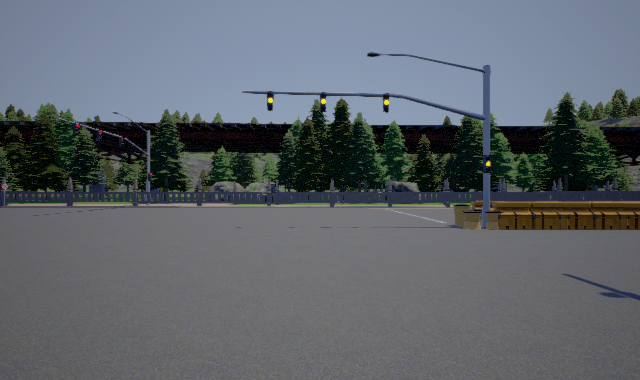traffic_light: (483, 155, 491, 173), (267, 91, 274, 111), (383, 93, 389, 113), (320, 92, 326, 112), (73, 123, 80, 136), (96, 130, 103, 142), (119, 137, 125, 147), (148, 173, 153, 181)
traffic_sign: (1, 183, 9, 190)
